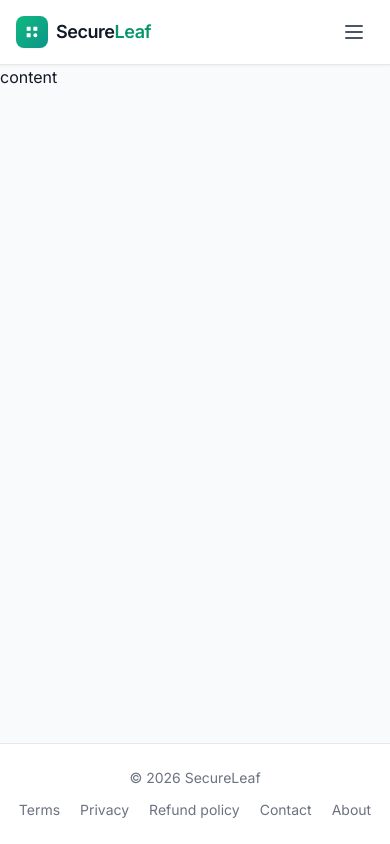
Test case: AppLayout mobile menu › lists My Library and Creator Dashboard for a creator, plus their name and Log out
Click the button named "Open menu": (354, 32) [334, 12, 374, 52]
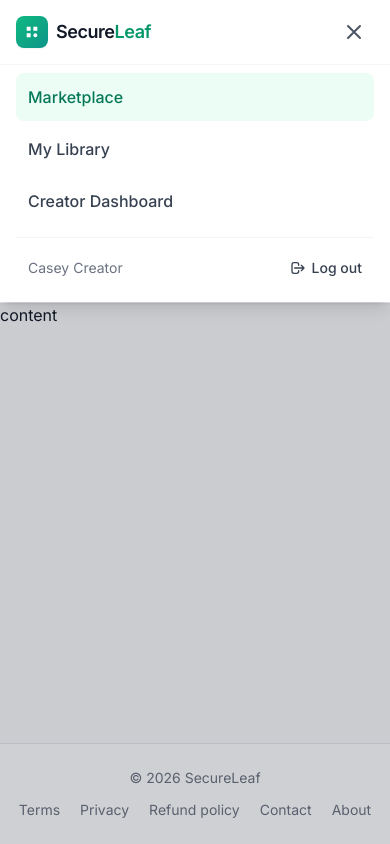
Expected: the text "Casey Creator" is shown, [28, 259, 123, 276]
Expected: the button "Log out" is shown, [278, 250, 374, 286]
